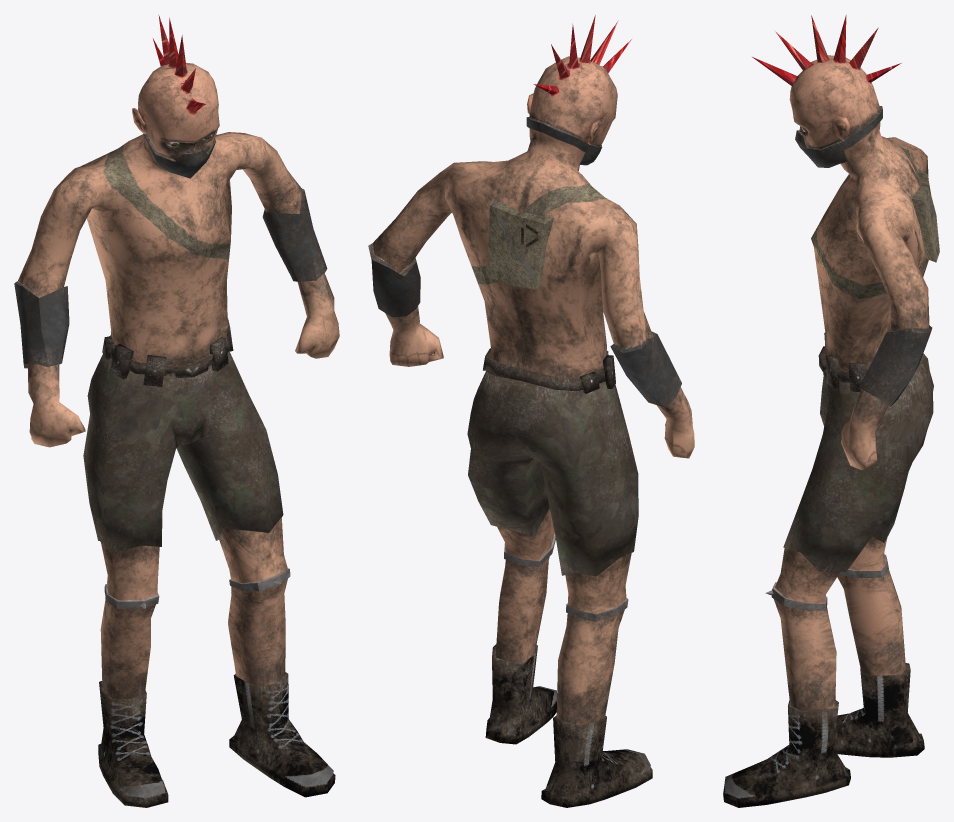
File: Anim_cogerobjeto_npc2.0019.obj
The picture shows the model from 3 angles, left to right: view 1: azimuth 30°, elevation 25°; view 2: azimuth 150°, elevation 25°; view 3: azimuth 270°, elevation 25°; orthographic projection.
Visible parts, largest first — view 1: polySurface1; view 2: polySurface1; view 3: polySurface1.
Part boxes in pixels (<box>): polySurface1: <box>14,15,339,807</box>; polySurface1: <box>368,15,694,807</box>; polySurface1: <box>723,15,939,807</box>.
Size of the model in its own units: 4.24 by 10.02 by 2.63.
